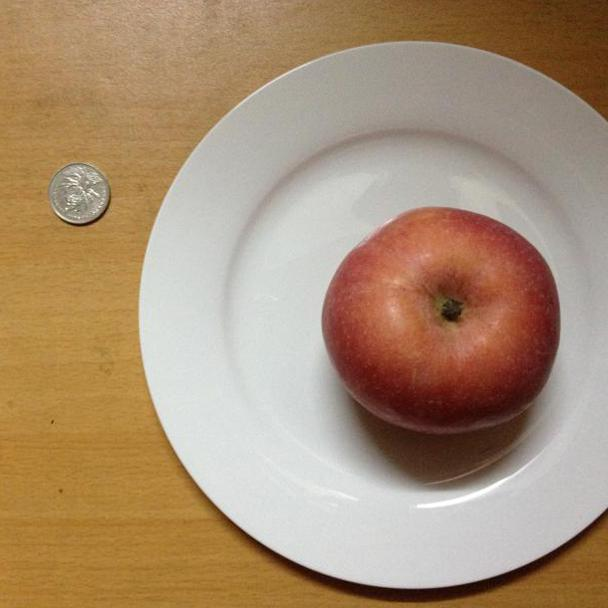apple: (319, 204, 570, 437)
